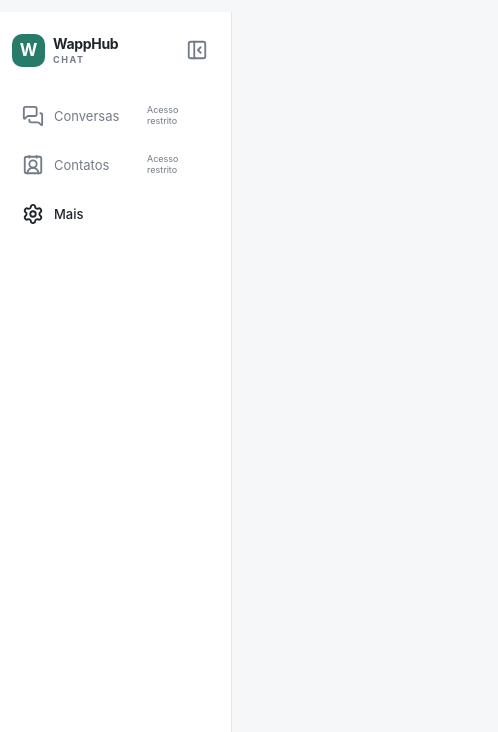
Test case: permanent navigation availability › keeps mobile access compact while exposing all other contexts in More
Expected: the button "Conversas Acesso restrito" is disabled, [12,94,219,138]
Expected: the button "Contatos Acesso restrito" is disabled, [12,143,219,187]
Click the button with aria-label "Mais áreas": {"x": 116, "y": 214} [12,192,219,236]
(page scrolled)
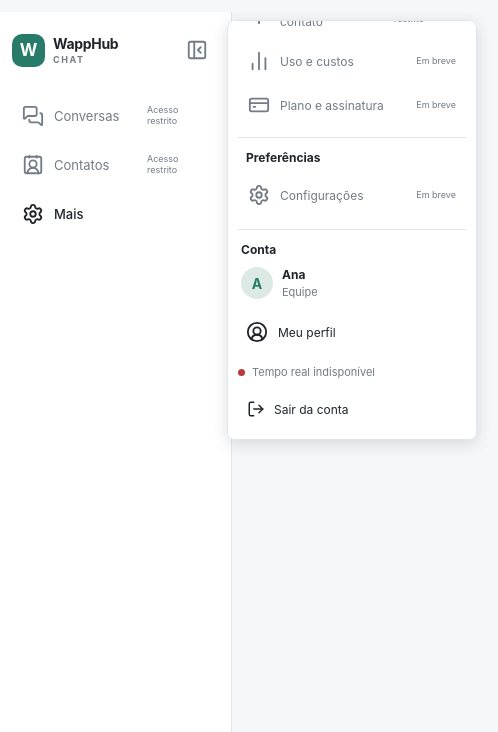
Expected: the button "Plano e assinatura Em breve" is disabled, [238,83,466,127]
Expected: the button "Sair da conta" is shown, [238,389,466,429]
